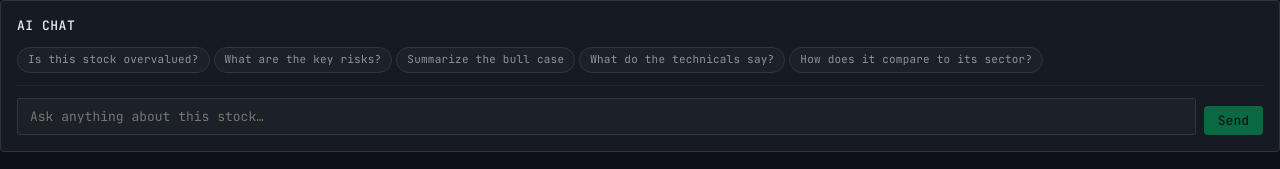
Test case: AIChatPanel › Send button enables when input has text
Type "What are the risks?" into the text box with placeholder "Ask anything about this stock…". click: (606, 116)
box: x1=17 y1=98 x2=1196 y2=135
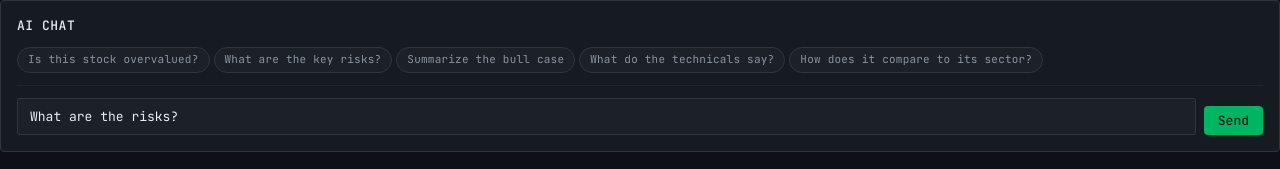
Result: the button "Send" is enabled at x1=1204 y1=106 x2=1263 y2=135
